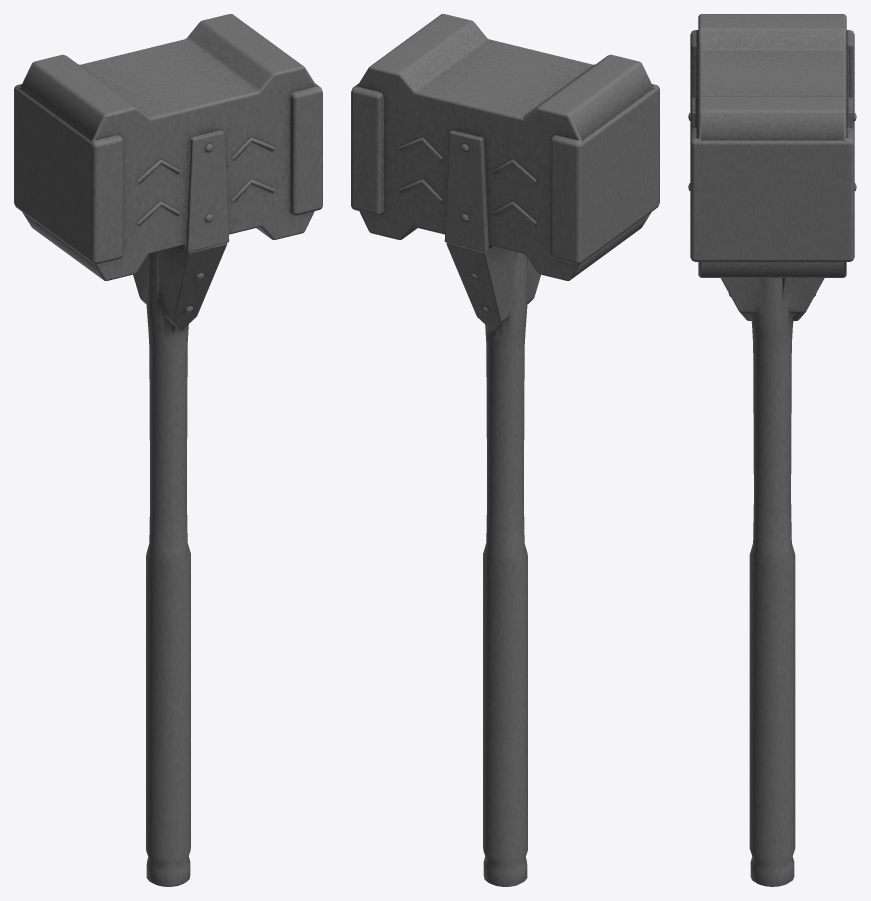
Rendered from maul-plain.glb.
The picture shows the model from 3 angles, left to right: view 1: azimuth 30°, elevation 25°; view 2: azimuth 150°, elevation 25°; view 3: azimuth 270°, elevation 25°; orthographic projection.
Parts seen in each view (by area): view 1: maul-plain; view 2: maul-plain; view 3: maul-plain.
Part boxes in pixels (box(x1,y1,x2,y2)): maul-plain: box(14, 14, 322, 886); maul-plain: box(351, 14, 659, 886); maul-plain: box(688, 14, 856, 886).
Bounding box in the file's own units: 0.317 × 1.07 × 0.1998.
Materials: 1 (1 with a texture image).
